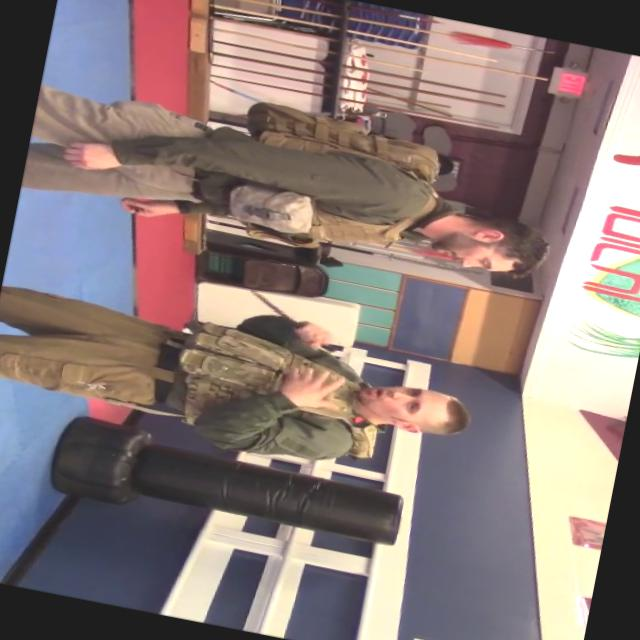knife: (230, 280, 352, 355)
